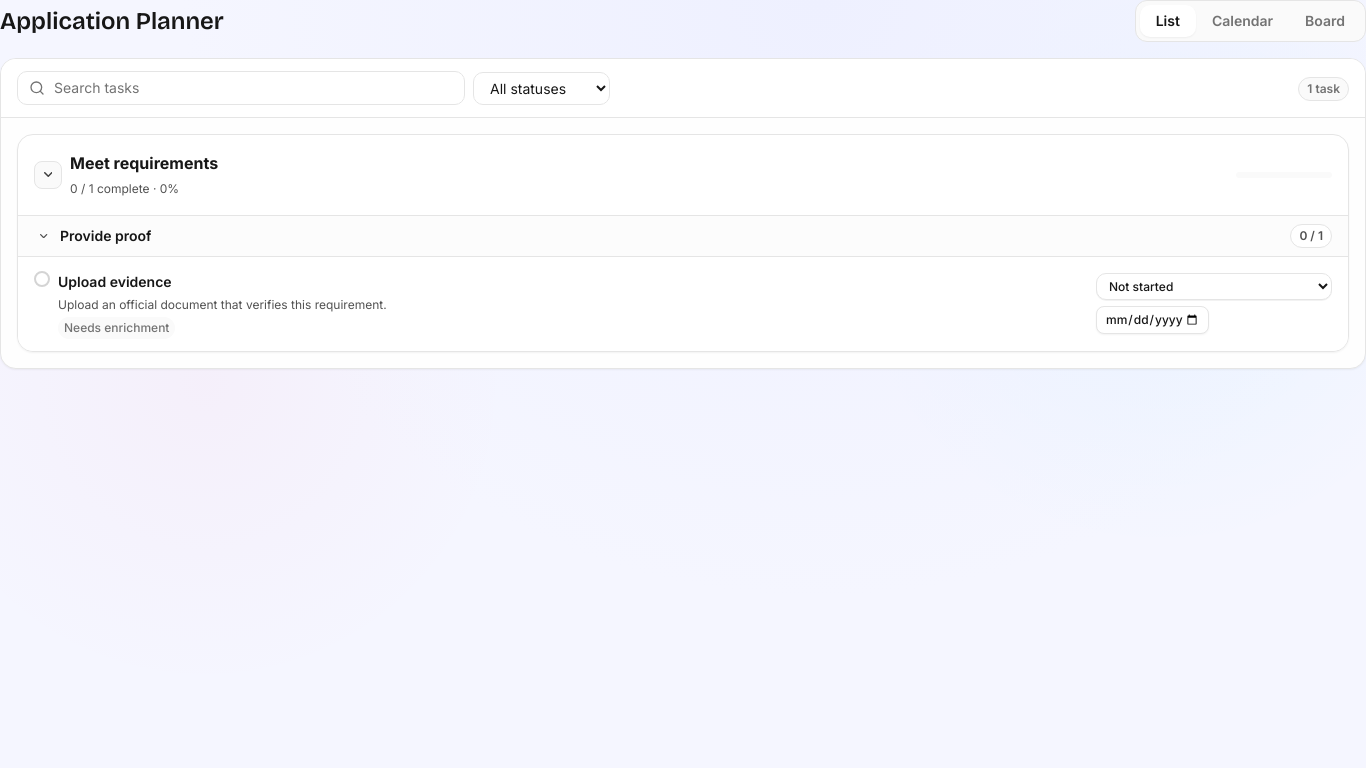
HierarchicalApplicationPlanner › renders a real month grid on the Calendar tab even when nothing is scheduled
Click the tab "Calendar": (1242, 21) [1196,5,1289,37]
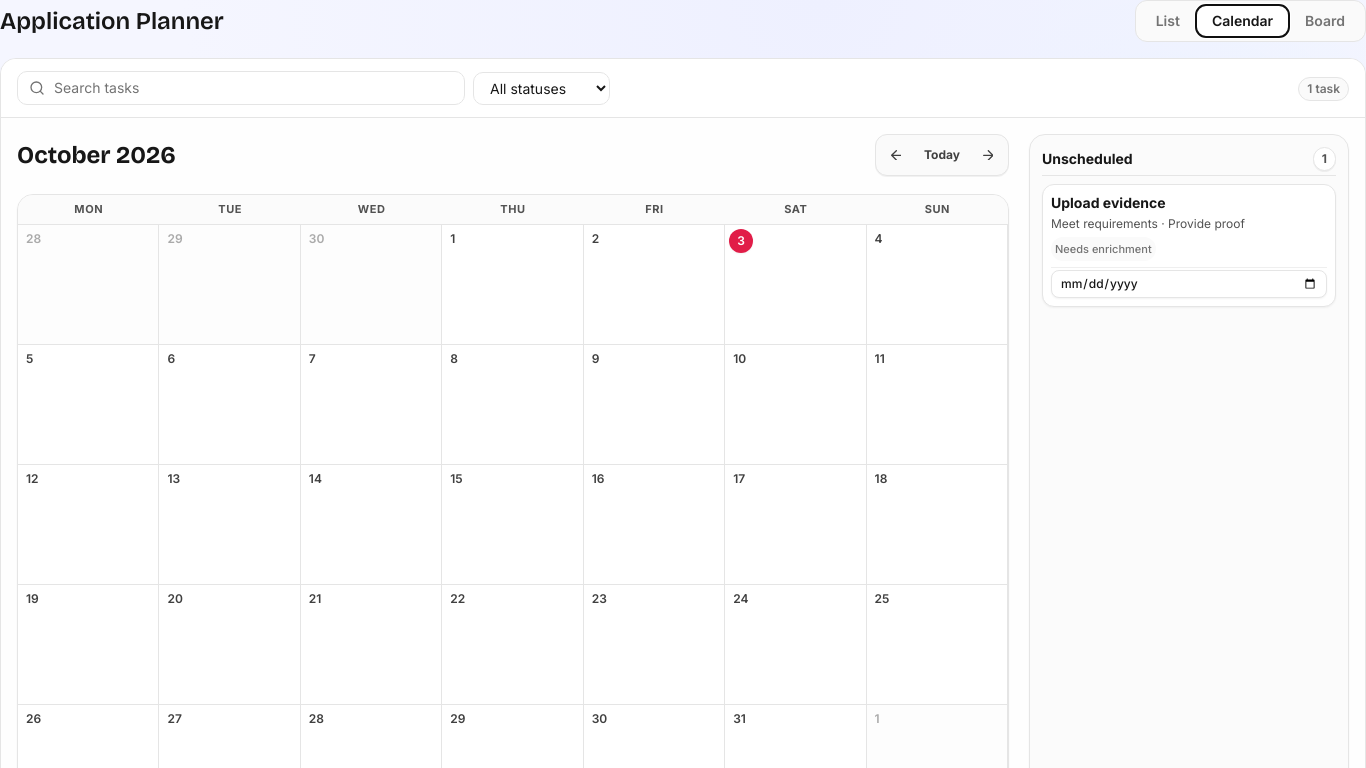
expect the text "Mon" is shown: met, box [74,202,103,216]
expect the text "Tue" is shown: met, box [218,202,242,216]
expect the text "Wed" is shown: met, box [358,202,385,216]
